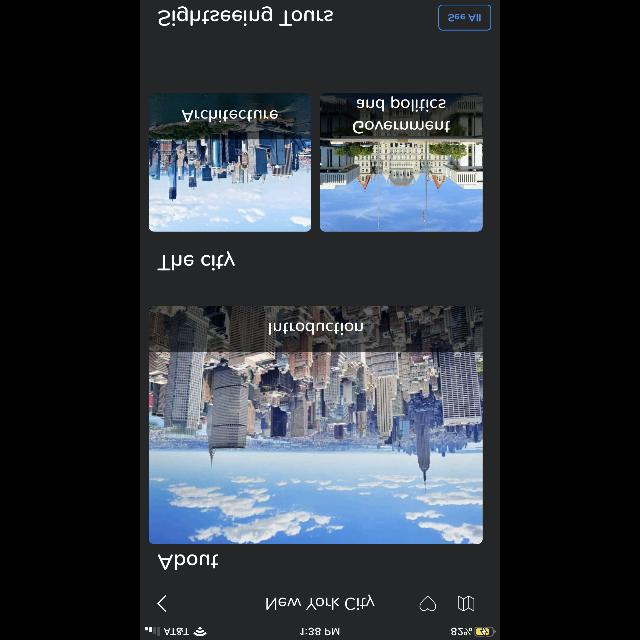icon: (458, 595, 474, 611), (419, 596, 436, 610), (158, 594, 166, 612)
image: (150, 306, 482, 544), (320, 93, 482, 231), (149, 93, 311, 231)
text: (354, 96, 451, 134), (158, 6, 334, 26), (267, 594, 375, 610), (158, 252, 235, 270), (269, 322, 363, 336), (182, 110, 278, 122), (158, 554, 218, 570)
textbutton: (438, 5, 492, 31)
uppertaskbar: (140, 626, 500, 640)
